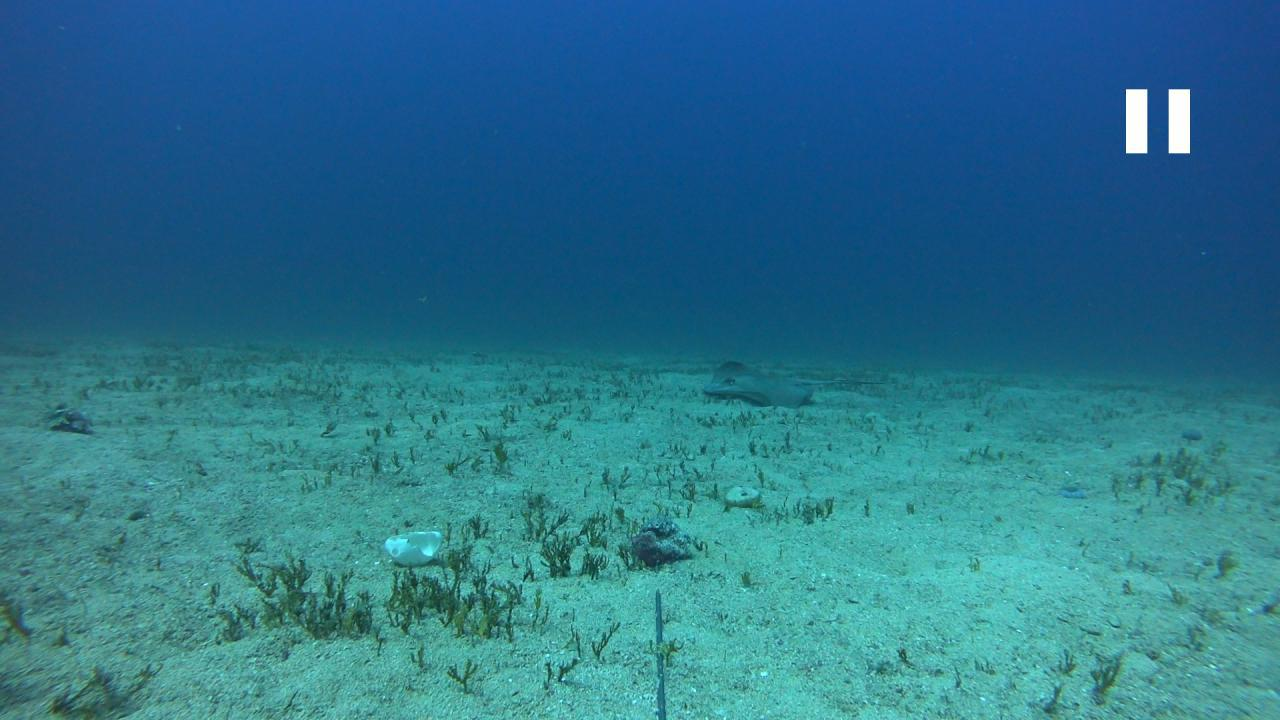dasyatis: (703, 357, 885, 405)
